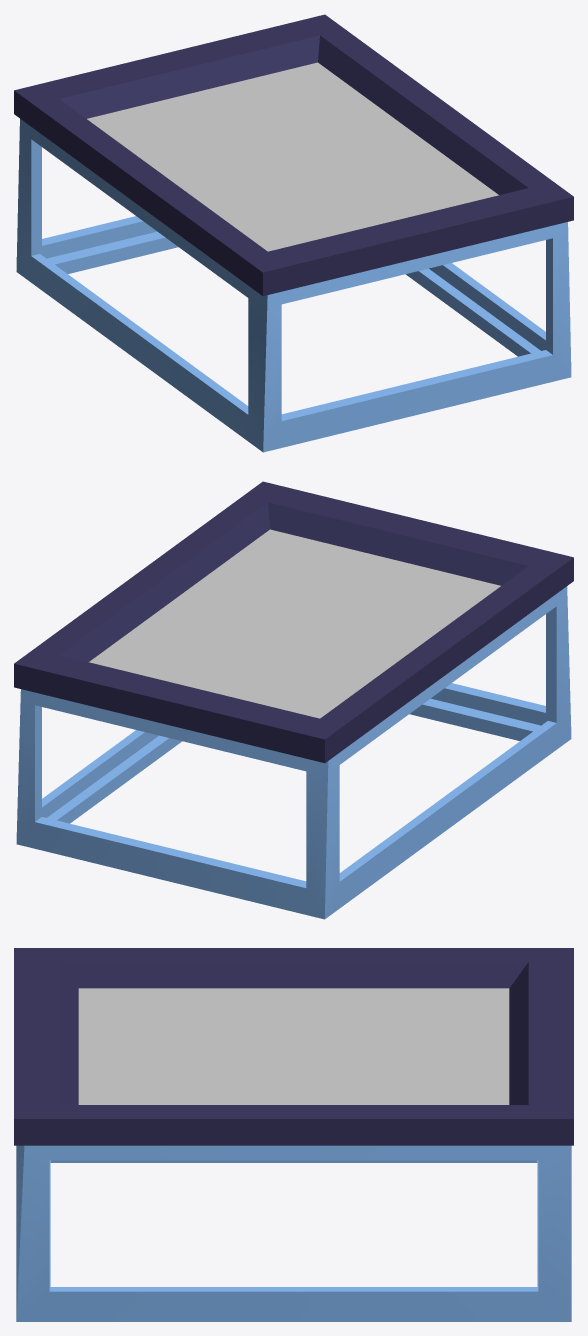
Rendered from toybox_firepit_boxed_mesh.fbx.
3 views of the same model, one above another, from view 1: azimuth 30°, elevation 25°; view 2: azimuth 150°, elevation 25°; view 3: azimuth 270°, elevation 25° (orthographic). The views are drawn at different scales.
Visible parts, largest first — view 1: Tray; view 2: Tray; view 3: Tray.
Part boxes in pixels (x1=…): Tray: x1=14, y1=14, x2=573, y2=452; Tray: x1=14, y1=481, x2=573, y2=919; Tray: x1=14, y1=948, x2=573, y2=1321.
Bounding box in the file's own units: 92.22 × 51.3 × 128.
